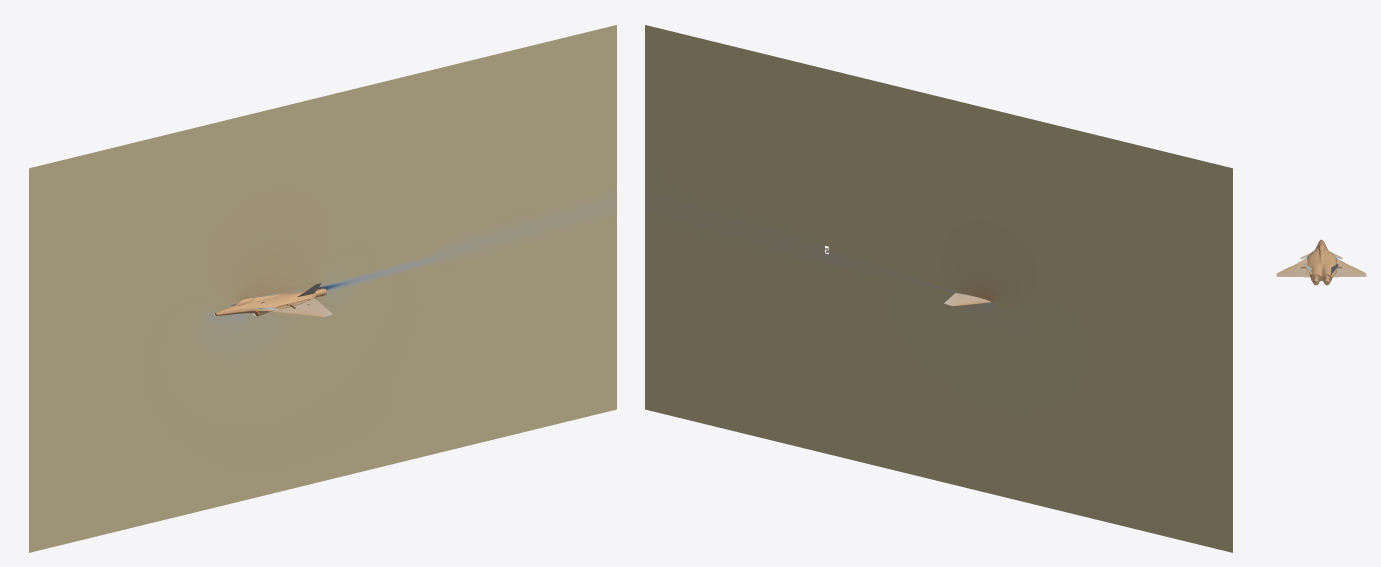
File: nyx_cp.glb
3 renders of one model, left to right at view 1: azimuth 30°, elevation 25°; view 2: azimuth 150°, elevation 25°; view 3: azimuth 270°, elevation 25°, orthographic. The views are drawn at different scales.
Visible parts, largest first — view 1: centre, vehicle; view 2: wing; view 3: vehicle.
Part boxes in pixels (box(x1,y1,x2,y2)): centre: box(29, 25, 616, 552); vehicle: box(213, 283, 332, 316); wing: box(645, 25, 1232, 552); vehicle: box(1276, 239, 1366, 285).
Bounding box in the file's own units: 80 × 50 × 13.24.
